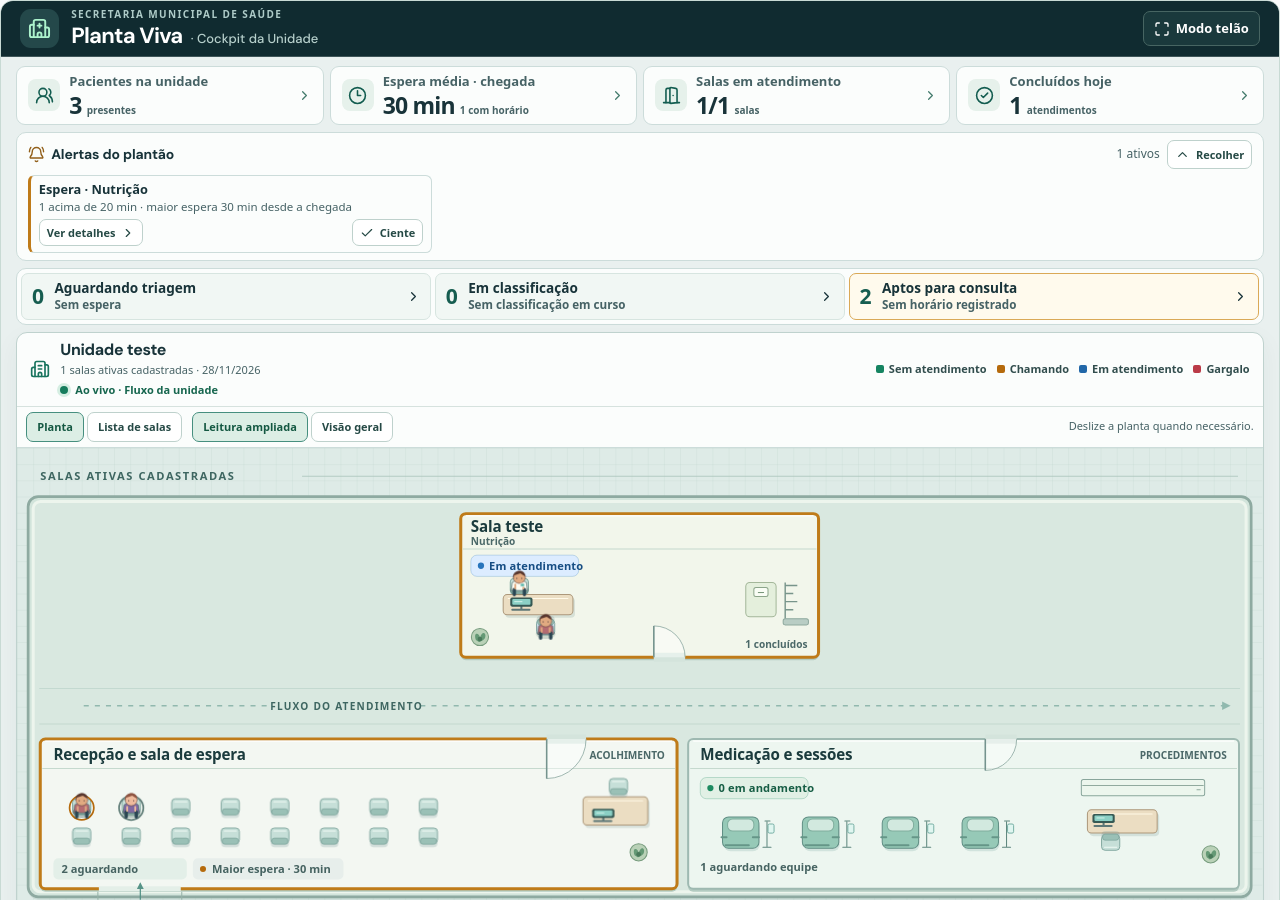
Test: abre os quatro indicadores com os mesmos dados da unidade e preserva a privacidade do telão
Earlier steps of the test are not shown.
Click the button "Salas em atendimento 1/1 salas". click: (769, 81)
box: [643,66,950,125]
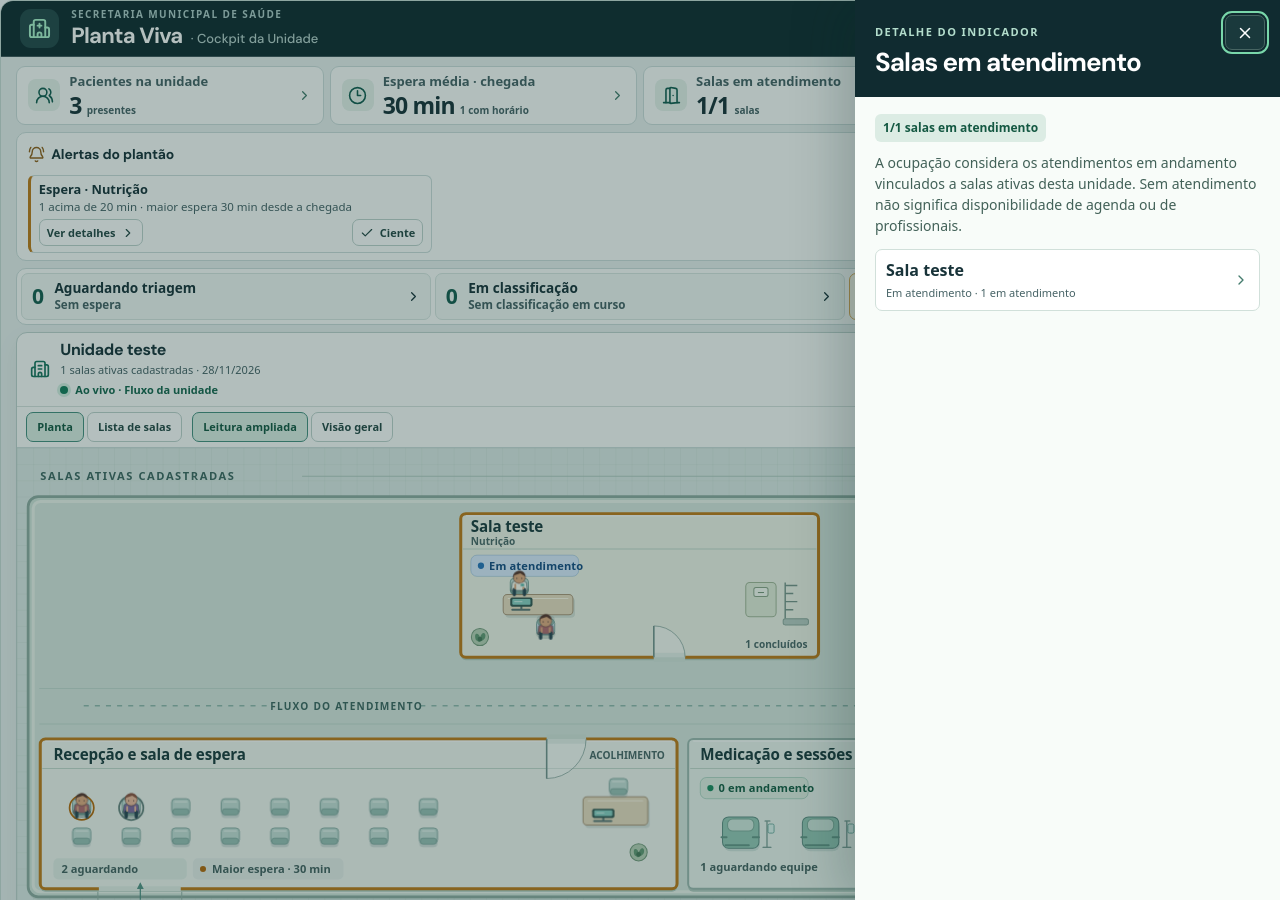
Check: the text "1/1 salas em atendimento" is shown, box [875,114,1046,142]
Click the button "Sala teste Em atendimento · 1 em atendimento". click: (925, 270)
box: [875,249,1260,311]
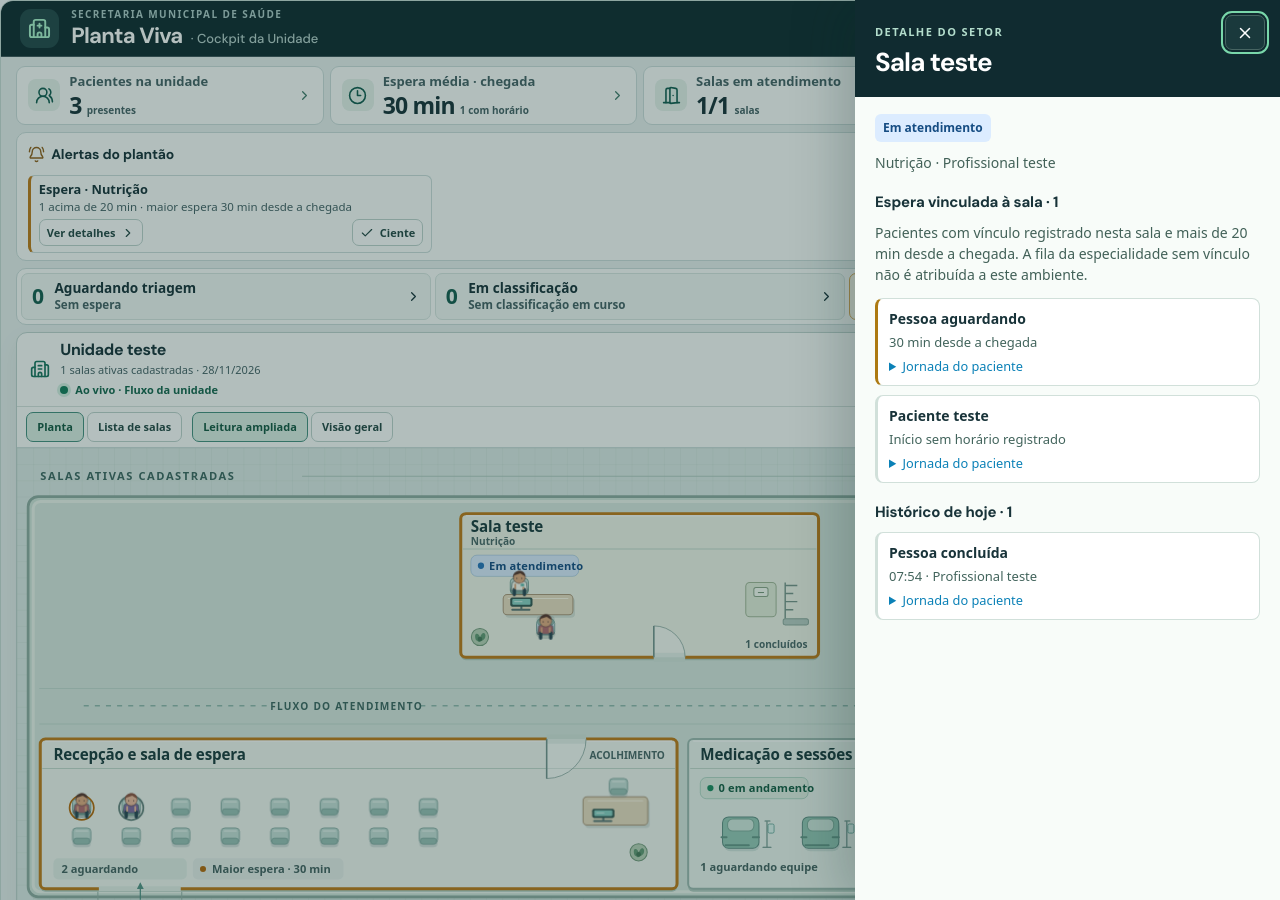
Check: the heading "Sala teste" is shown, box [875,44,992,78]
Click the button named "Fechar detalhes". click: (1245, 32)
box: [1225,15,1265,50]
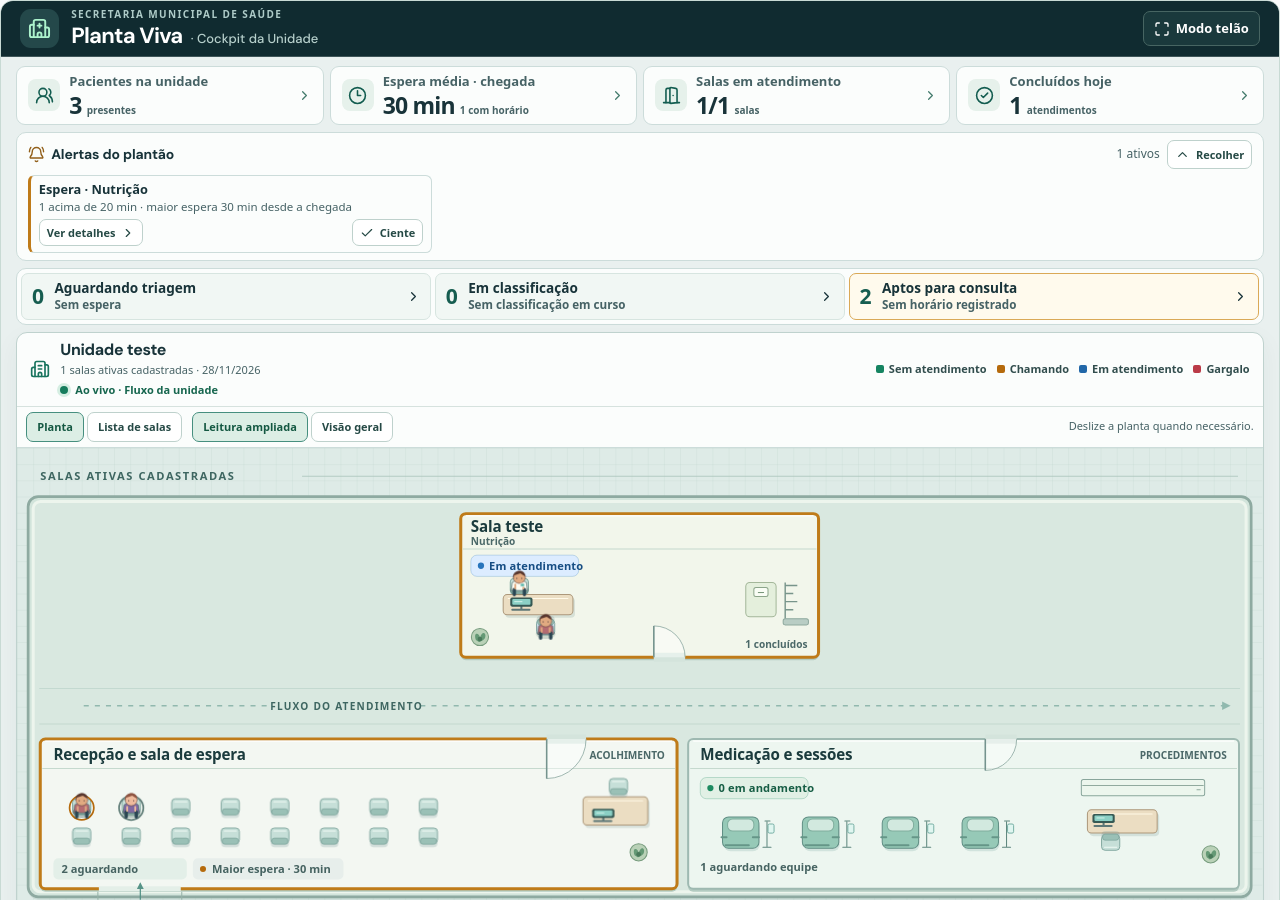
Click the button "Concluídos hoje 1 atendimentos". click: (1061, 81)
box: [956,66,1264,125]
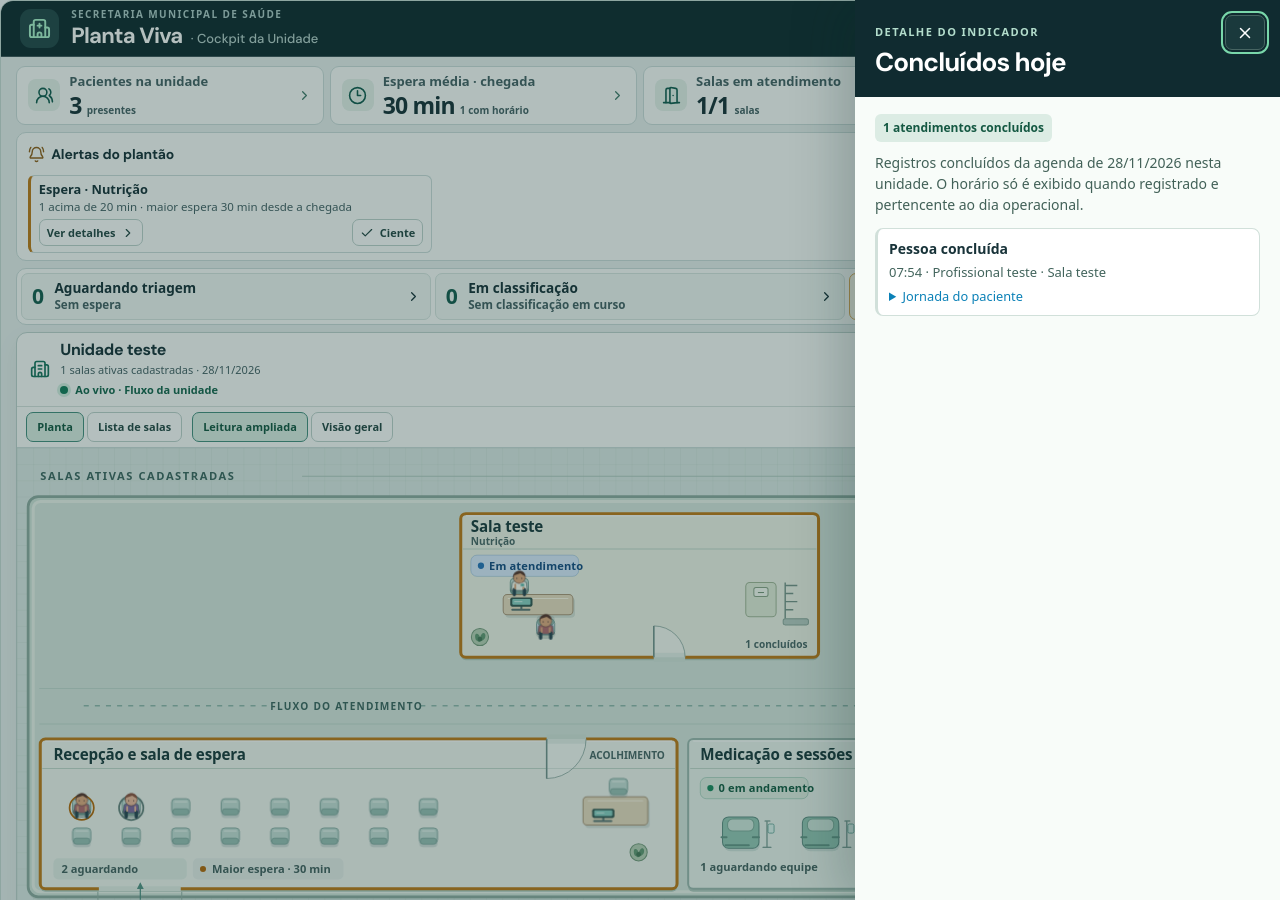
Check: the text "Pessoa aguardando" is not shown
Check: the text "Pessoa concluída" is shown, box [889,239,1008,258]
Click the button named "Fechar detalhes". click: (1245, 32)
box: [1225,15,1265,50]
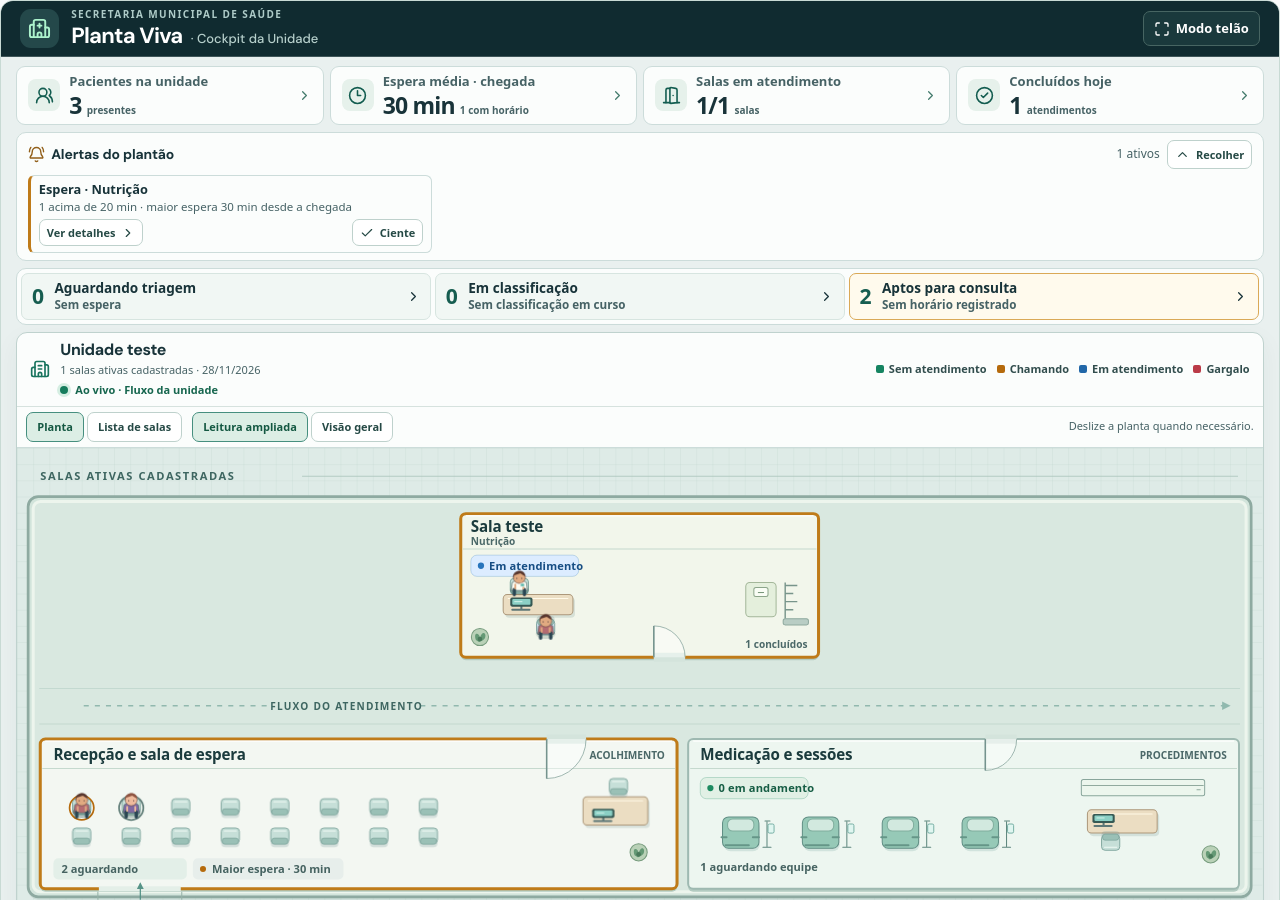
Click the button "Modo telão". click: (1201, 28)
box: [1143,11,1260,46]
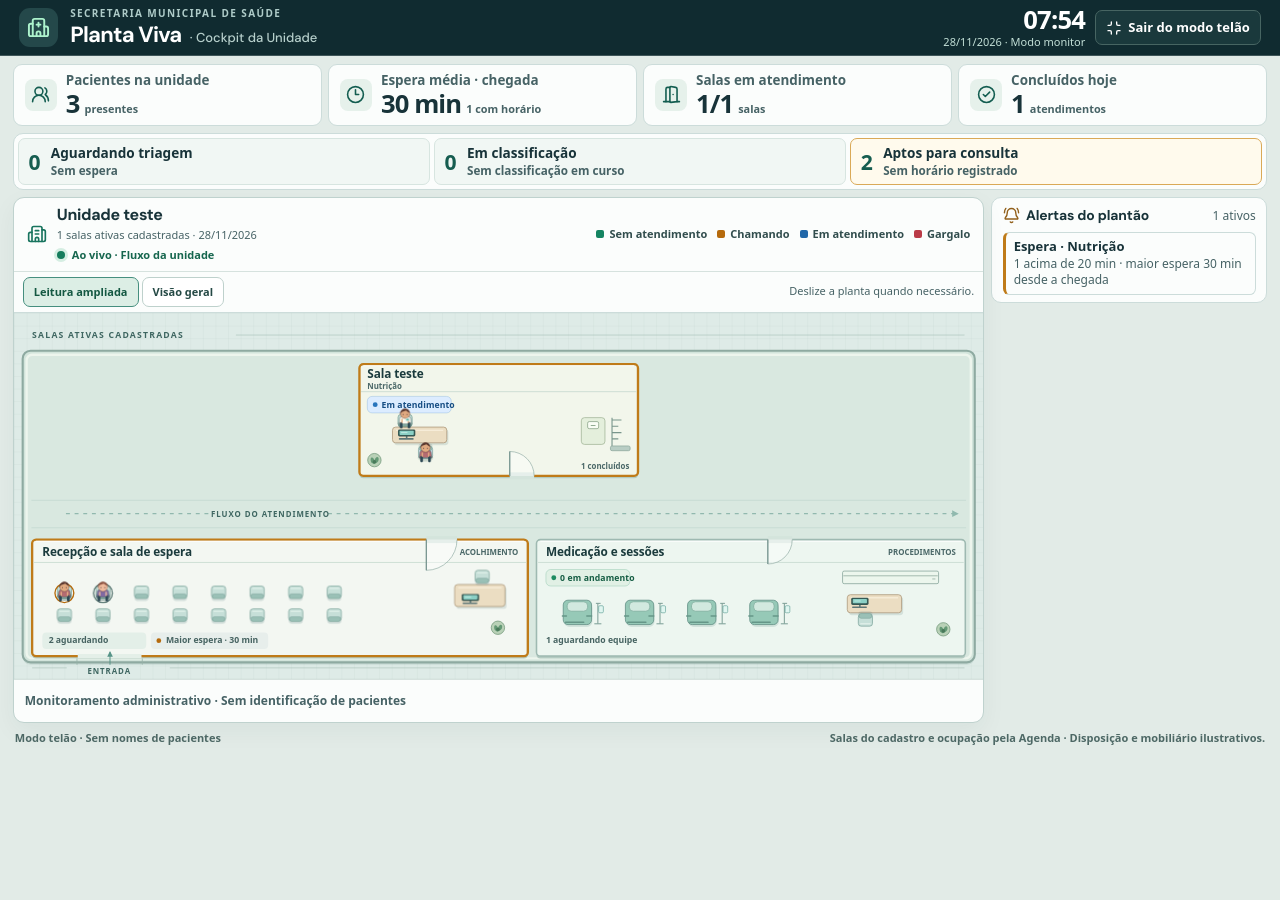
Check: the text "Pessoa concluída" is not shown
Check: no the button "Recolher" are shown
